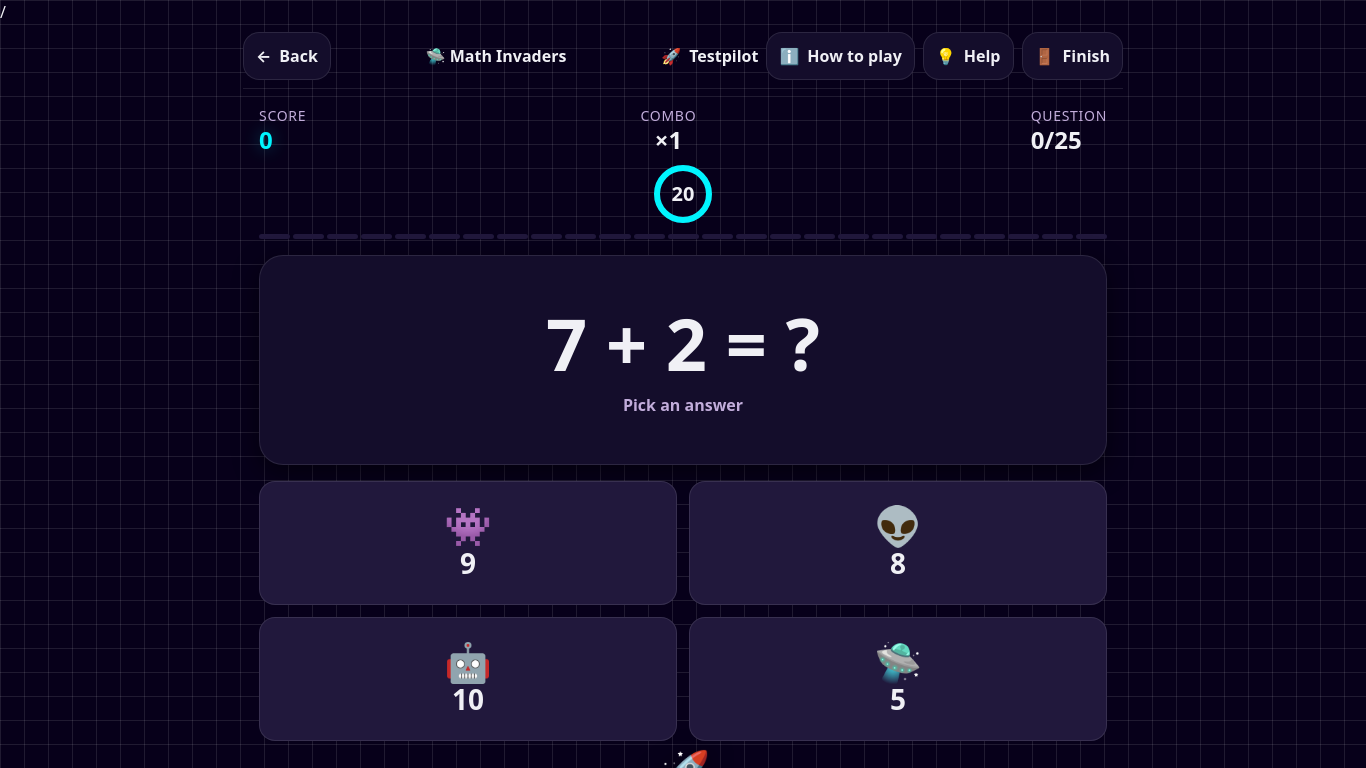
Test: GamePage › pauses a timed mission while help is open and closes the worked example
Click the button "💡 Help" at {"x": 968, "y": 56}, box top-left (923, 32), bottom-right (1014, 80)
Wait 25000 ms
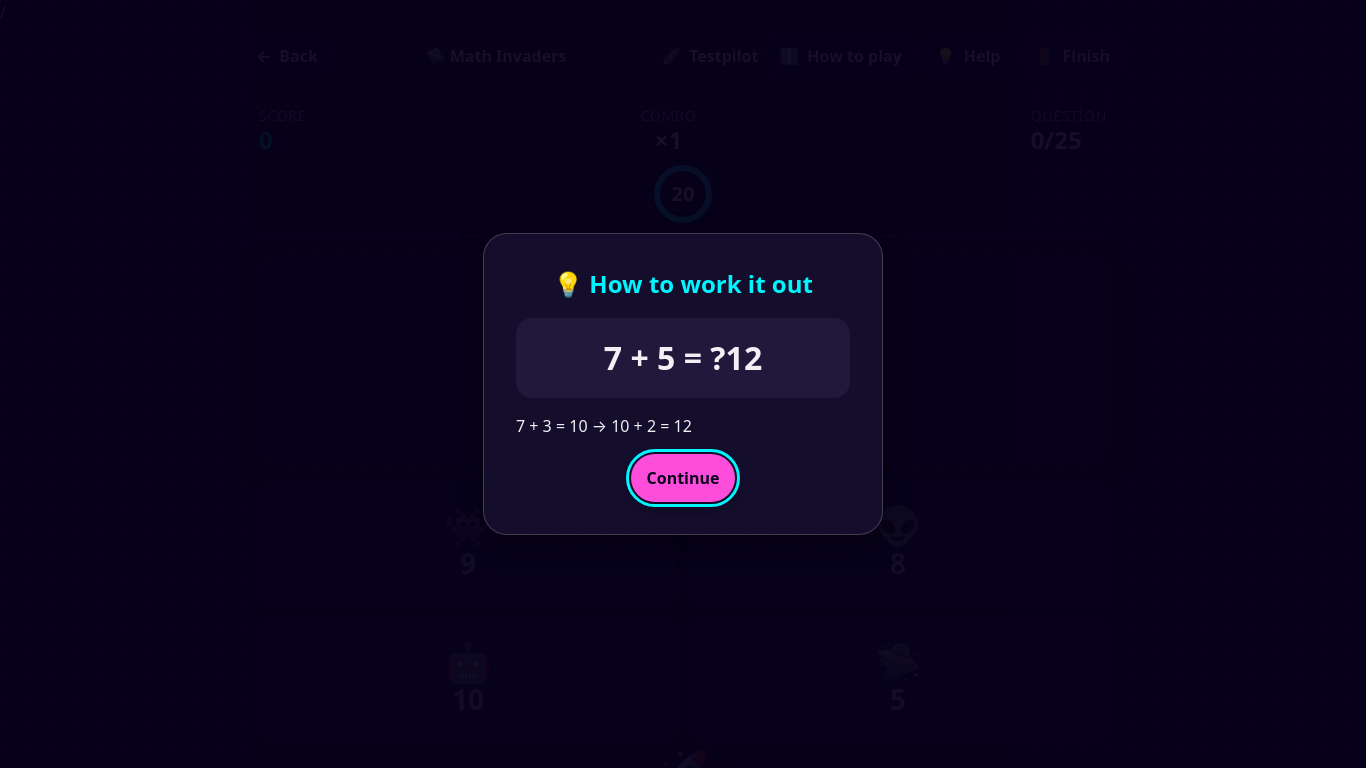
Expected: the dialog "How to work it out" is shown
Click the button "Continue" at {"x": 683, "y": 478}, box top-left (630, 454), bottom-right (735, 502)
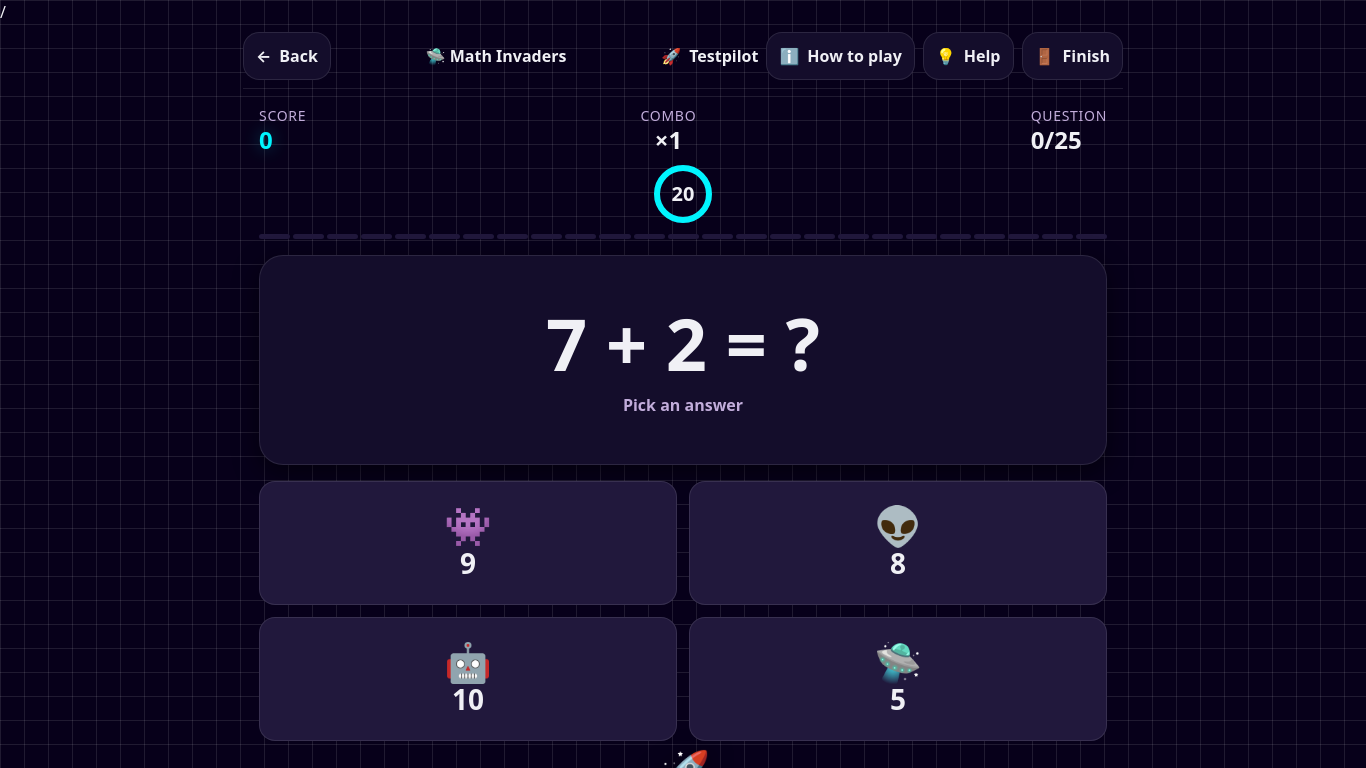
Expected: the dialog is gone
